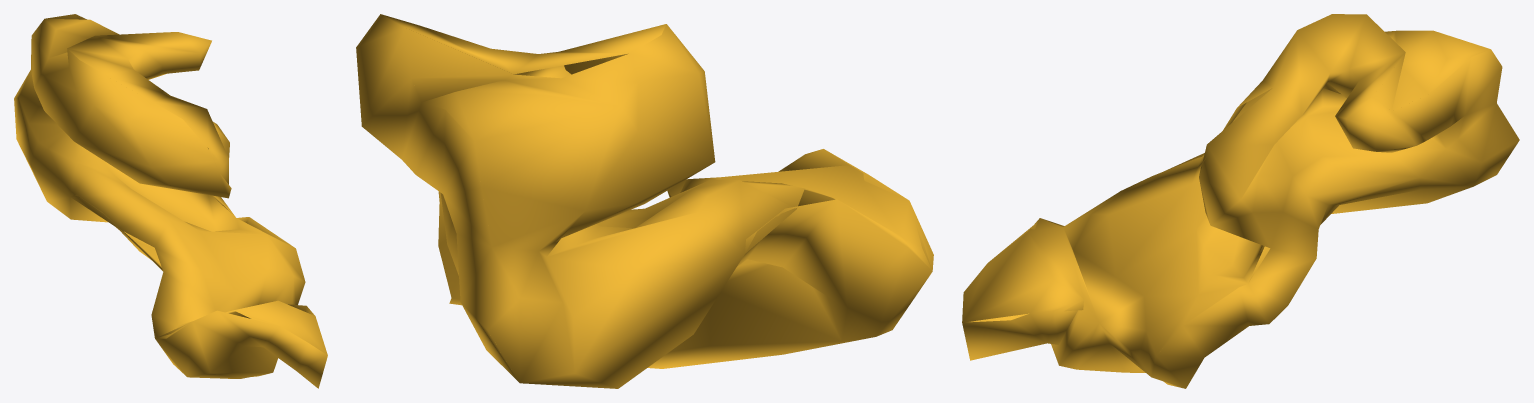
File: nervoso-temporal-plane-r.glb
3 renders of one model, left to right at view 1: azimuth 30°, elevation 25°; view 2: azimuth 150°, elevation 25°; view 3: azimuth 270°, elevation 25°, orthographic. The views are drawn at different scales.
Parts seen in each view (by area): view 1: Temporal plane.r; view 2: Temporal plane.r; view 3: Temporal plane.r.
Part boxes in pixels (<box>): Temporal plane.r: <box>14,14,327,388</box>; Temporal plane.r: <box>356,14,933,388</box>; Temporal plane.r: <box>962,14,1519,388</box>.
Bounding box in the file's own units: 0.0206 × 0.0271 × 0.0438.
